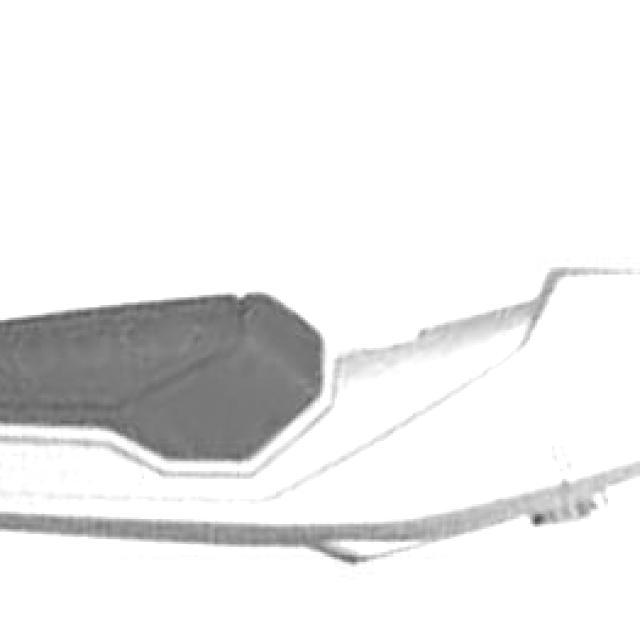estilete: (0, 270, 640, 555)
